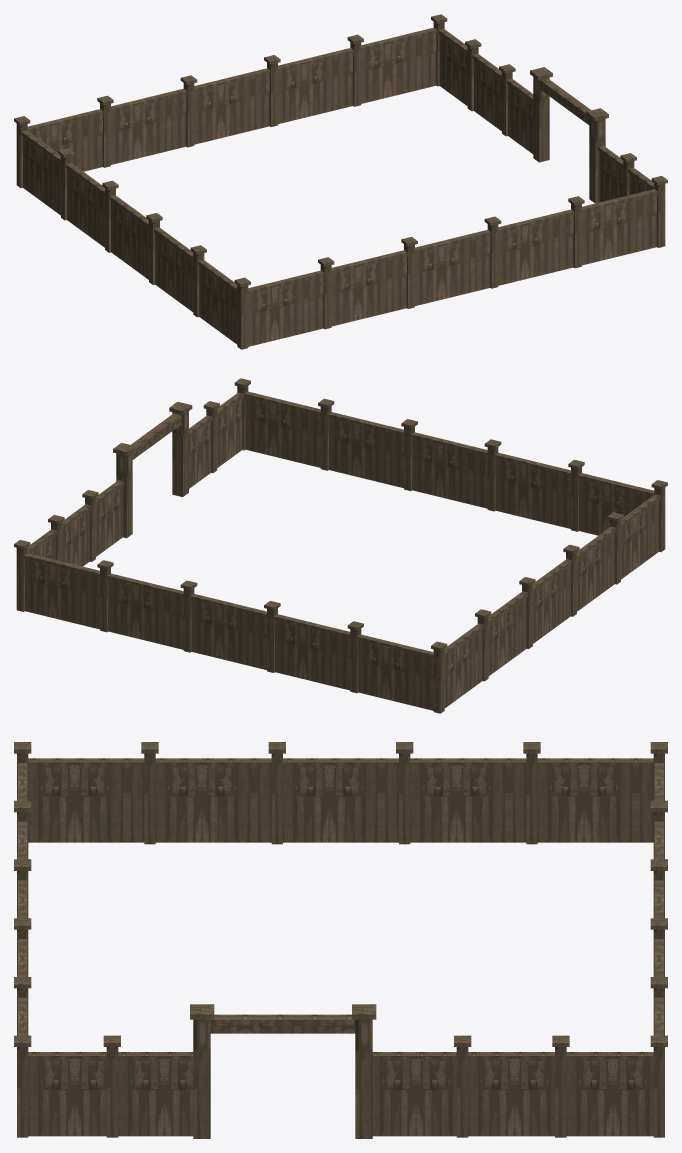
File: cemetery_fence.glb
The picture shows the model from 3 angles, top to bottom: view 1: azimuth 30°, elevation 25°; view 2: azimuth 150°, elevation 25°; view 3: azimuth 270°, elevation 25°; orthographic projection. The views are drawn at different scales.
Parts seen in each view (by area): view 1: fence_posts, fence_panel_6, fence_panel_8, fence_panel_5, fence_panel_2, fence_panel_4, fence_panel_1, fence_panel_7, fence_panel_9, fence_panel_3, fence_caps, fence_panel_0 (+9 smaller); view 2: fence_posts, fence_panel_1, fence_panel_3, fence_panel_0, fence_panel_7, fence_panel_9, fence_panel_2, fence_panel_6, fence_panel_4, fence_panel_8, fence_caps, fence_panel_5 (+10 smaller); view 3: fence_posts, fence_panel_11, fence_panel_13, fence_panel_10, fence_panel_14, fence_panel_12, fence_caps, fence_panel_15, fence_panel_16, fence_panel_17, fence_panel_19, fence_panel_18.
Part boxes in pixels (x1,y1,x2,y2): fence_posts: [16, 22, 665, 349]; fence_panel_6: [331, 250, 407, 326]; fence_panel_8: [498, 209, 574, 285]; fence_panel_5: [248, 270, 324, 346]; fence_panel_2: [194, 68, 270, 144]; fence_panel_4: [361, 27, 437, 103]; fence_panel_1: [111, 88, 186, 164]; fence_panel_7: [415, 230, 490, 305]; fence_panel_9: [582, 189, 657, 265]; fence_panel_3: [278, 48, 353, 124]; fence_caps: [14, 14, 667, 287]; fence_panel_0: [27, 109, 103, 171]; fence_posts: [16, 386, 665, 713]; fence_panel_1: [274, 614, 350, 690]; fence_panel_3: [107, 573, 183, 649]; fence_panel_0: [357, 634, 433, 710]; fence_panel_7: [411, 432, 487, 508]; fence_panel_9: [244, 391, 320, 467]; fence_panel_2: [191, 594, 266, 669]; fence_panel_6: [495, 452, 570, 528]; fence_panel_4: [24, 553, 99, 629]; fence_panel_8: [328, 412, 403, 488]; fence_caps: [14, 378, 667, 651]; fence_panel_5: [578, 473, 654, 535]; fence_posts: [17, 753, 664, 1138]; fence_panel_11: [410, 758, 526, 842]; fence_panel_13: [155, 758, 271, 842]; fence_panel_10: [537, 758, 653, 842]; fence_panel_14: [28, 758, 144, 842]; fence_panel_12: [283, 758, 398, 842]; fence_caps: [14, 742, 667, 1046]; fence_panel_15: [566, 1052, 653, 1136]; fence_panel_16: [468, 1052, 554, 1136]; fence_panel_17: [372, 1052, 456, 1136]; fence_panel_19: [28, 1052, 106, 1136]; fence_panel_18: [118, 1052, 193, 1136].
Bounding box in the file's own units: 12.36 × 2.4 × 11.3.
Materials: 1 (1 with a texture image).
